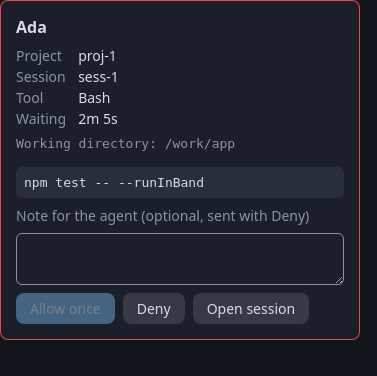
it: ActionCard: Allow once, Deny, Open session › copy-only with a blocked clipboard says it could not copy and shows the values to copy by hand
The image size is (377, 376).
Click the button "Open session".
click(251, 308)  # box [193, 293, 309, 324]
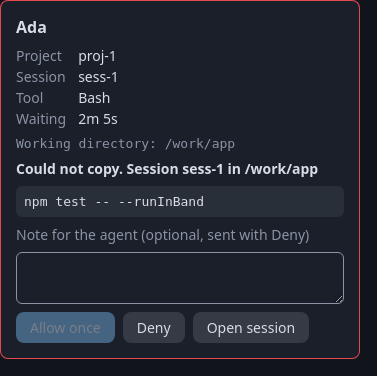
Expected: the element with test id "action-card" shows "sess-1", [78, 67, 119, 86]
Now the element with test id "action-card" shows "could not copy", box [16, 159, 318, 178]
